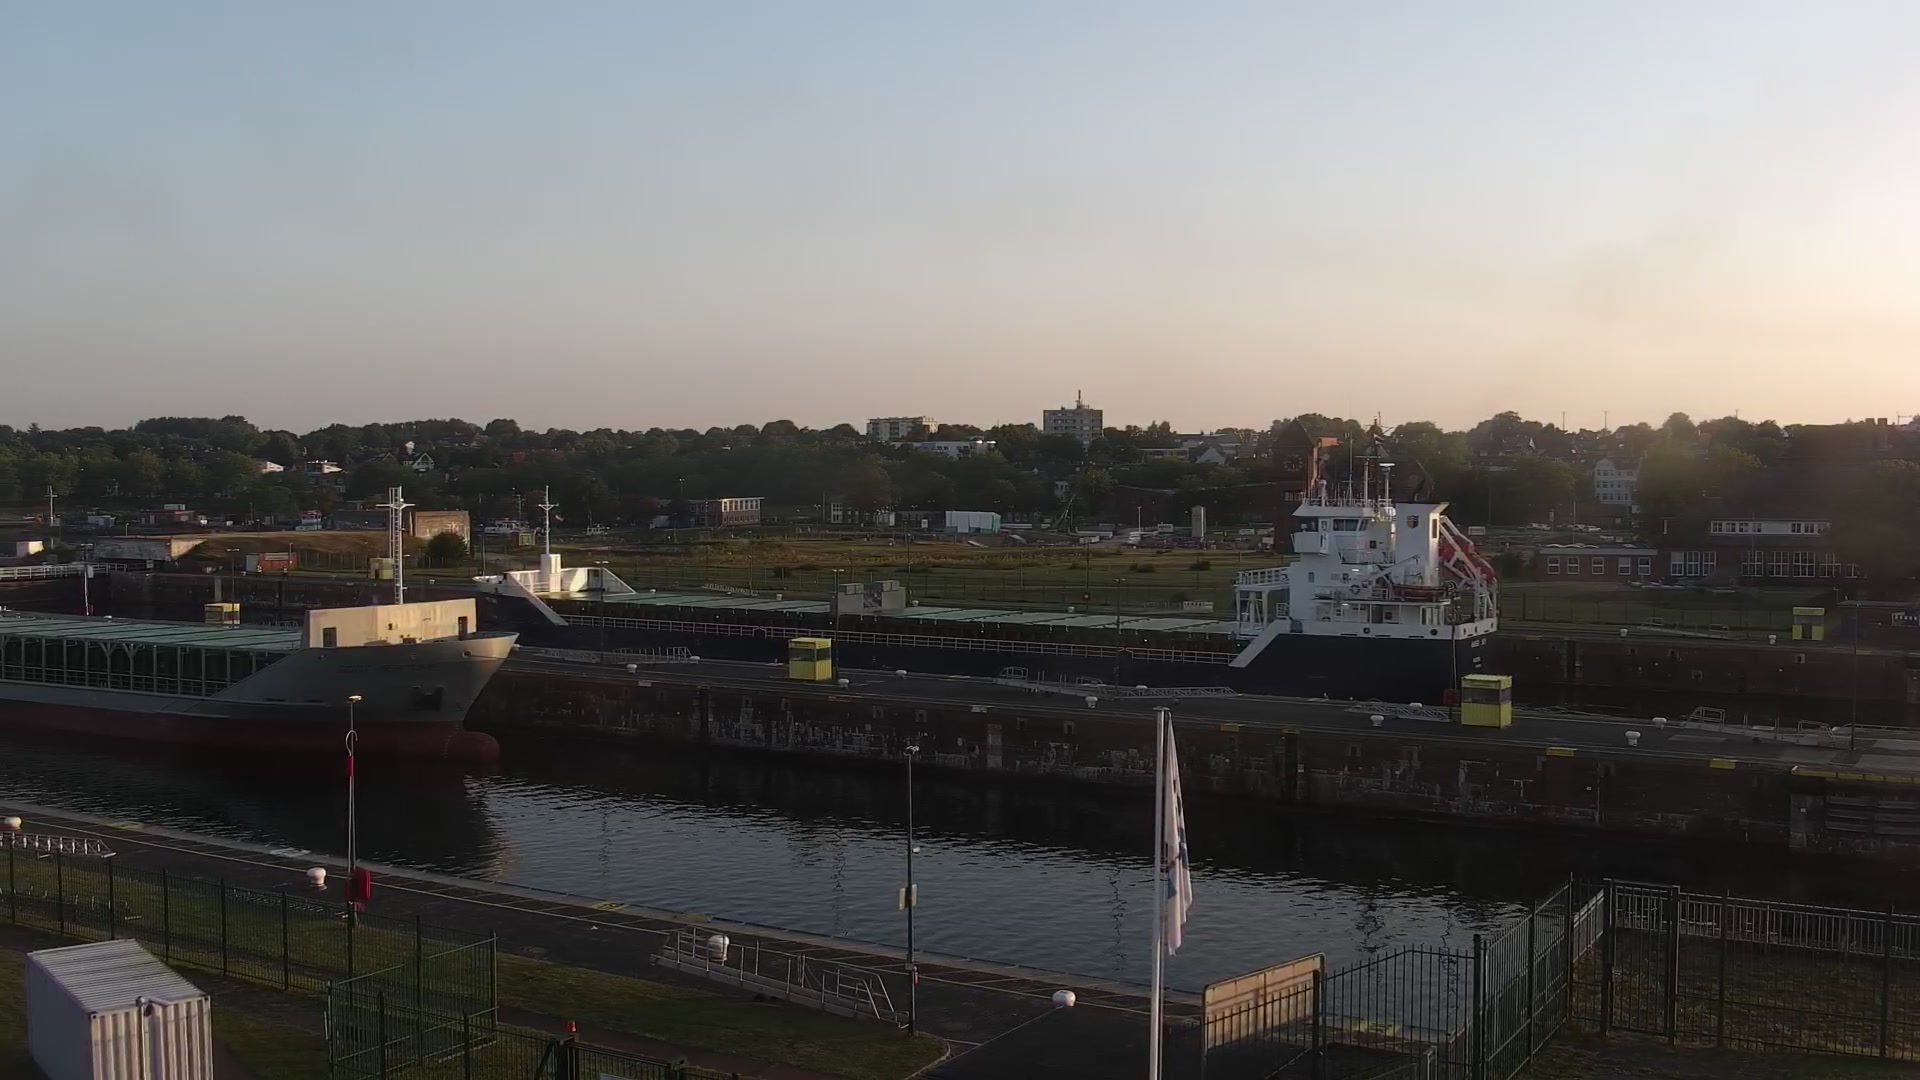human: (256, 562, 263, 578)
land: (1527, 521, 1551, 529), (1554, 521, 1571, 529), (1568, 523, 1584, 531), (1583, 525, 1600, 532)
sea: (468, 437, 1499, 707), (1, 481, 519, 761)
